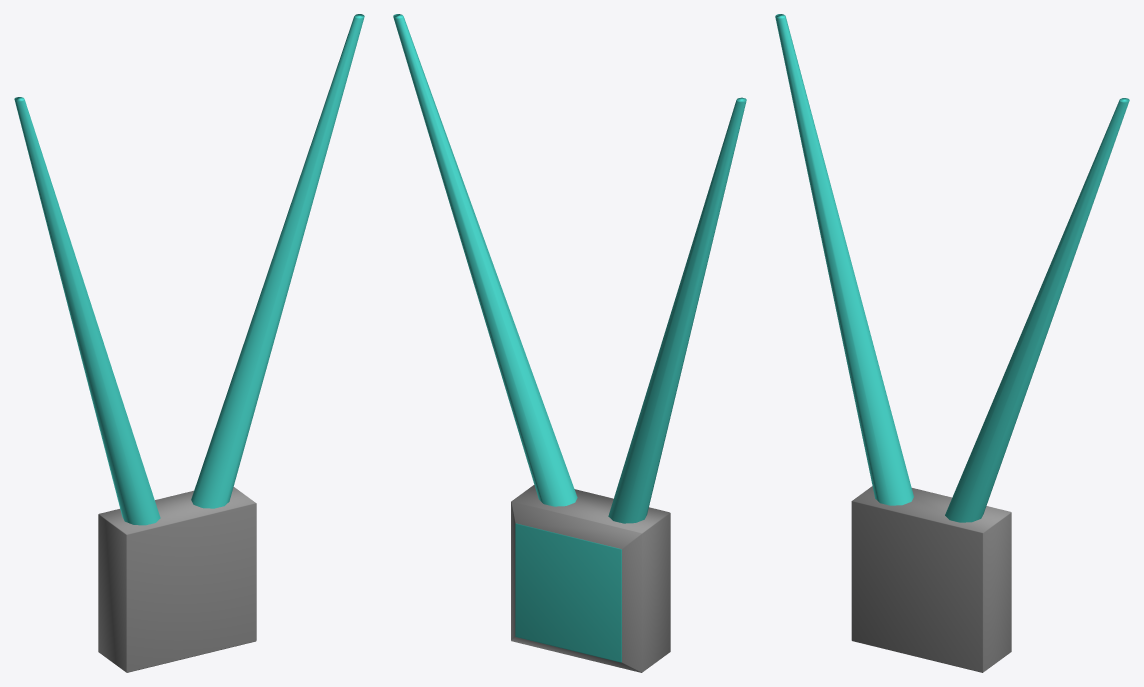
The picture shows the model from 3 angles, left to right: view 1: azimuth 30°, elevation 25°; view 2: azimuth 150°, elevation 25°; view 3: azimuth 330°, elevation 25°; orthographic projection.
Parts seen in each view (by area): view 1: SM_Cylinder; view 2: SM_Cylinder; view 3: SM_Cylinder.
Part boxes in pixels (x1,y1,x2,y2): SM_Cylinder: (14,14,364,672); SM_Cylinder: (393,14,746,672); SM_Cylinder: (775,14,1129,672).
Size of the model in its own units: 73.37 by 13.19 by 117.
1 material, 1 textured.
